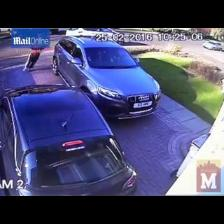person: (24, 49, 43, 71)
